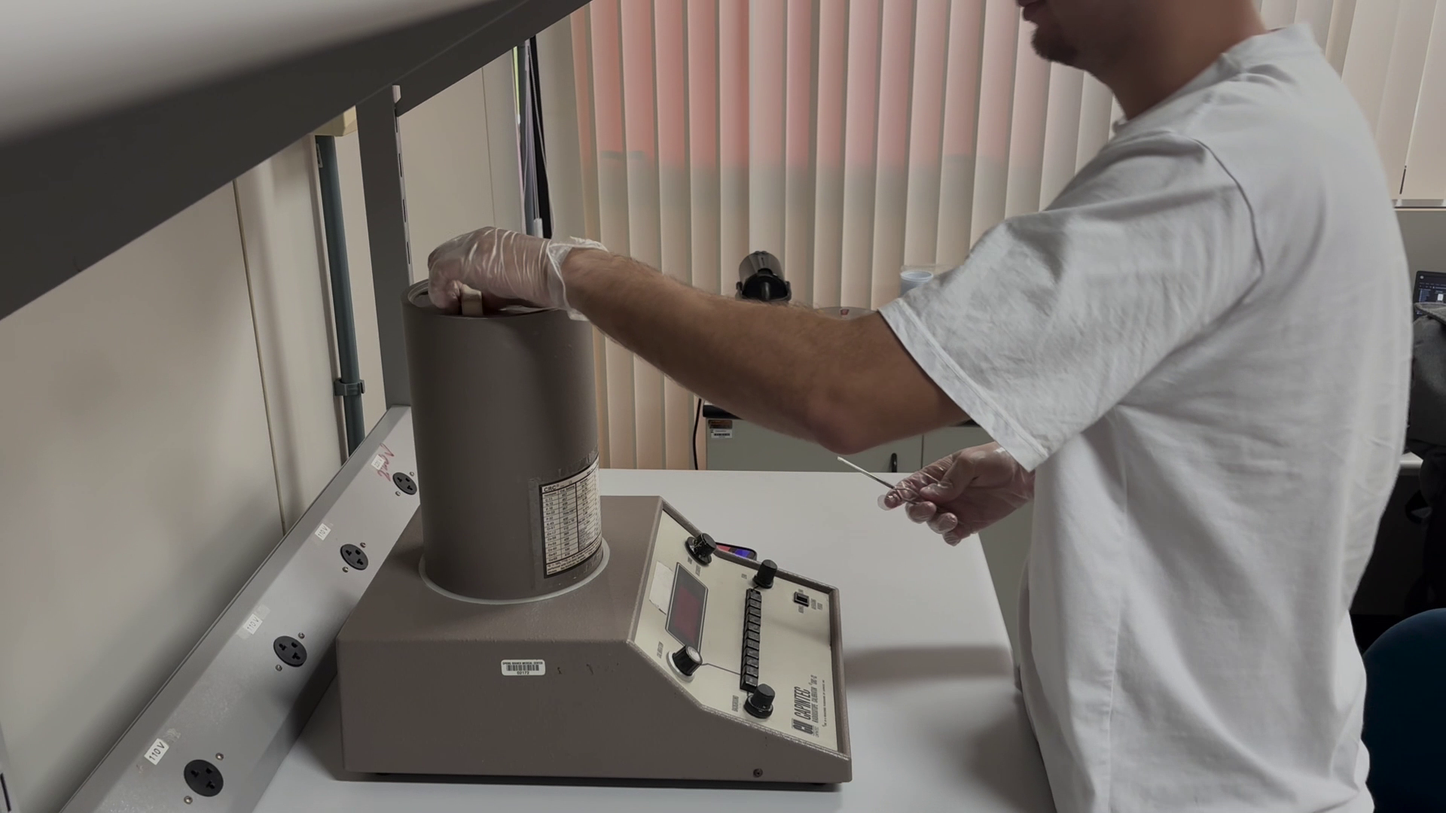Ativimetro: (398, 267, 609, 606)
Com_Luva: (423, 223, 609, 322), (881, 441, 1035, 550)
